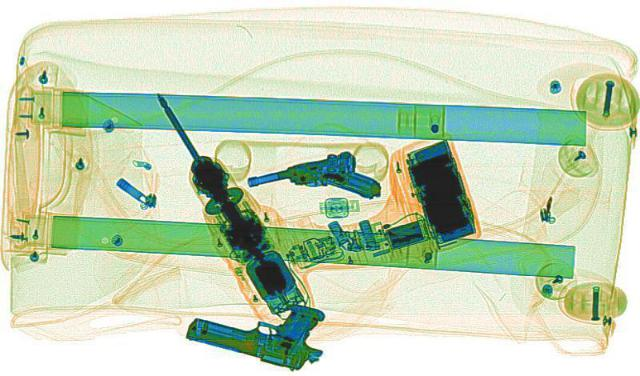Gun: (171, 284, 351, 372), (238, 148, 389, 220)
